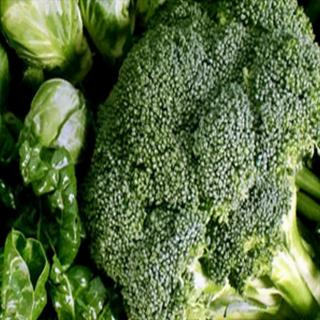Broccoli: (83, 0, 320, 320)
